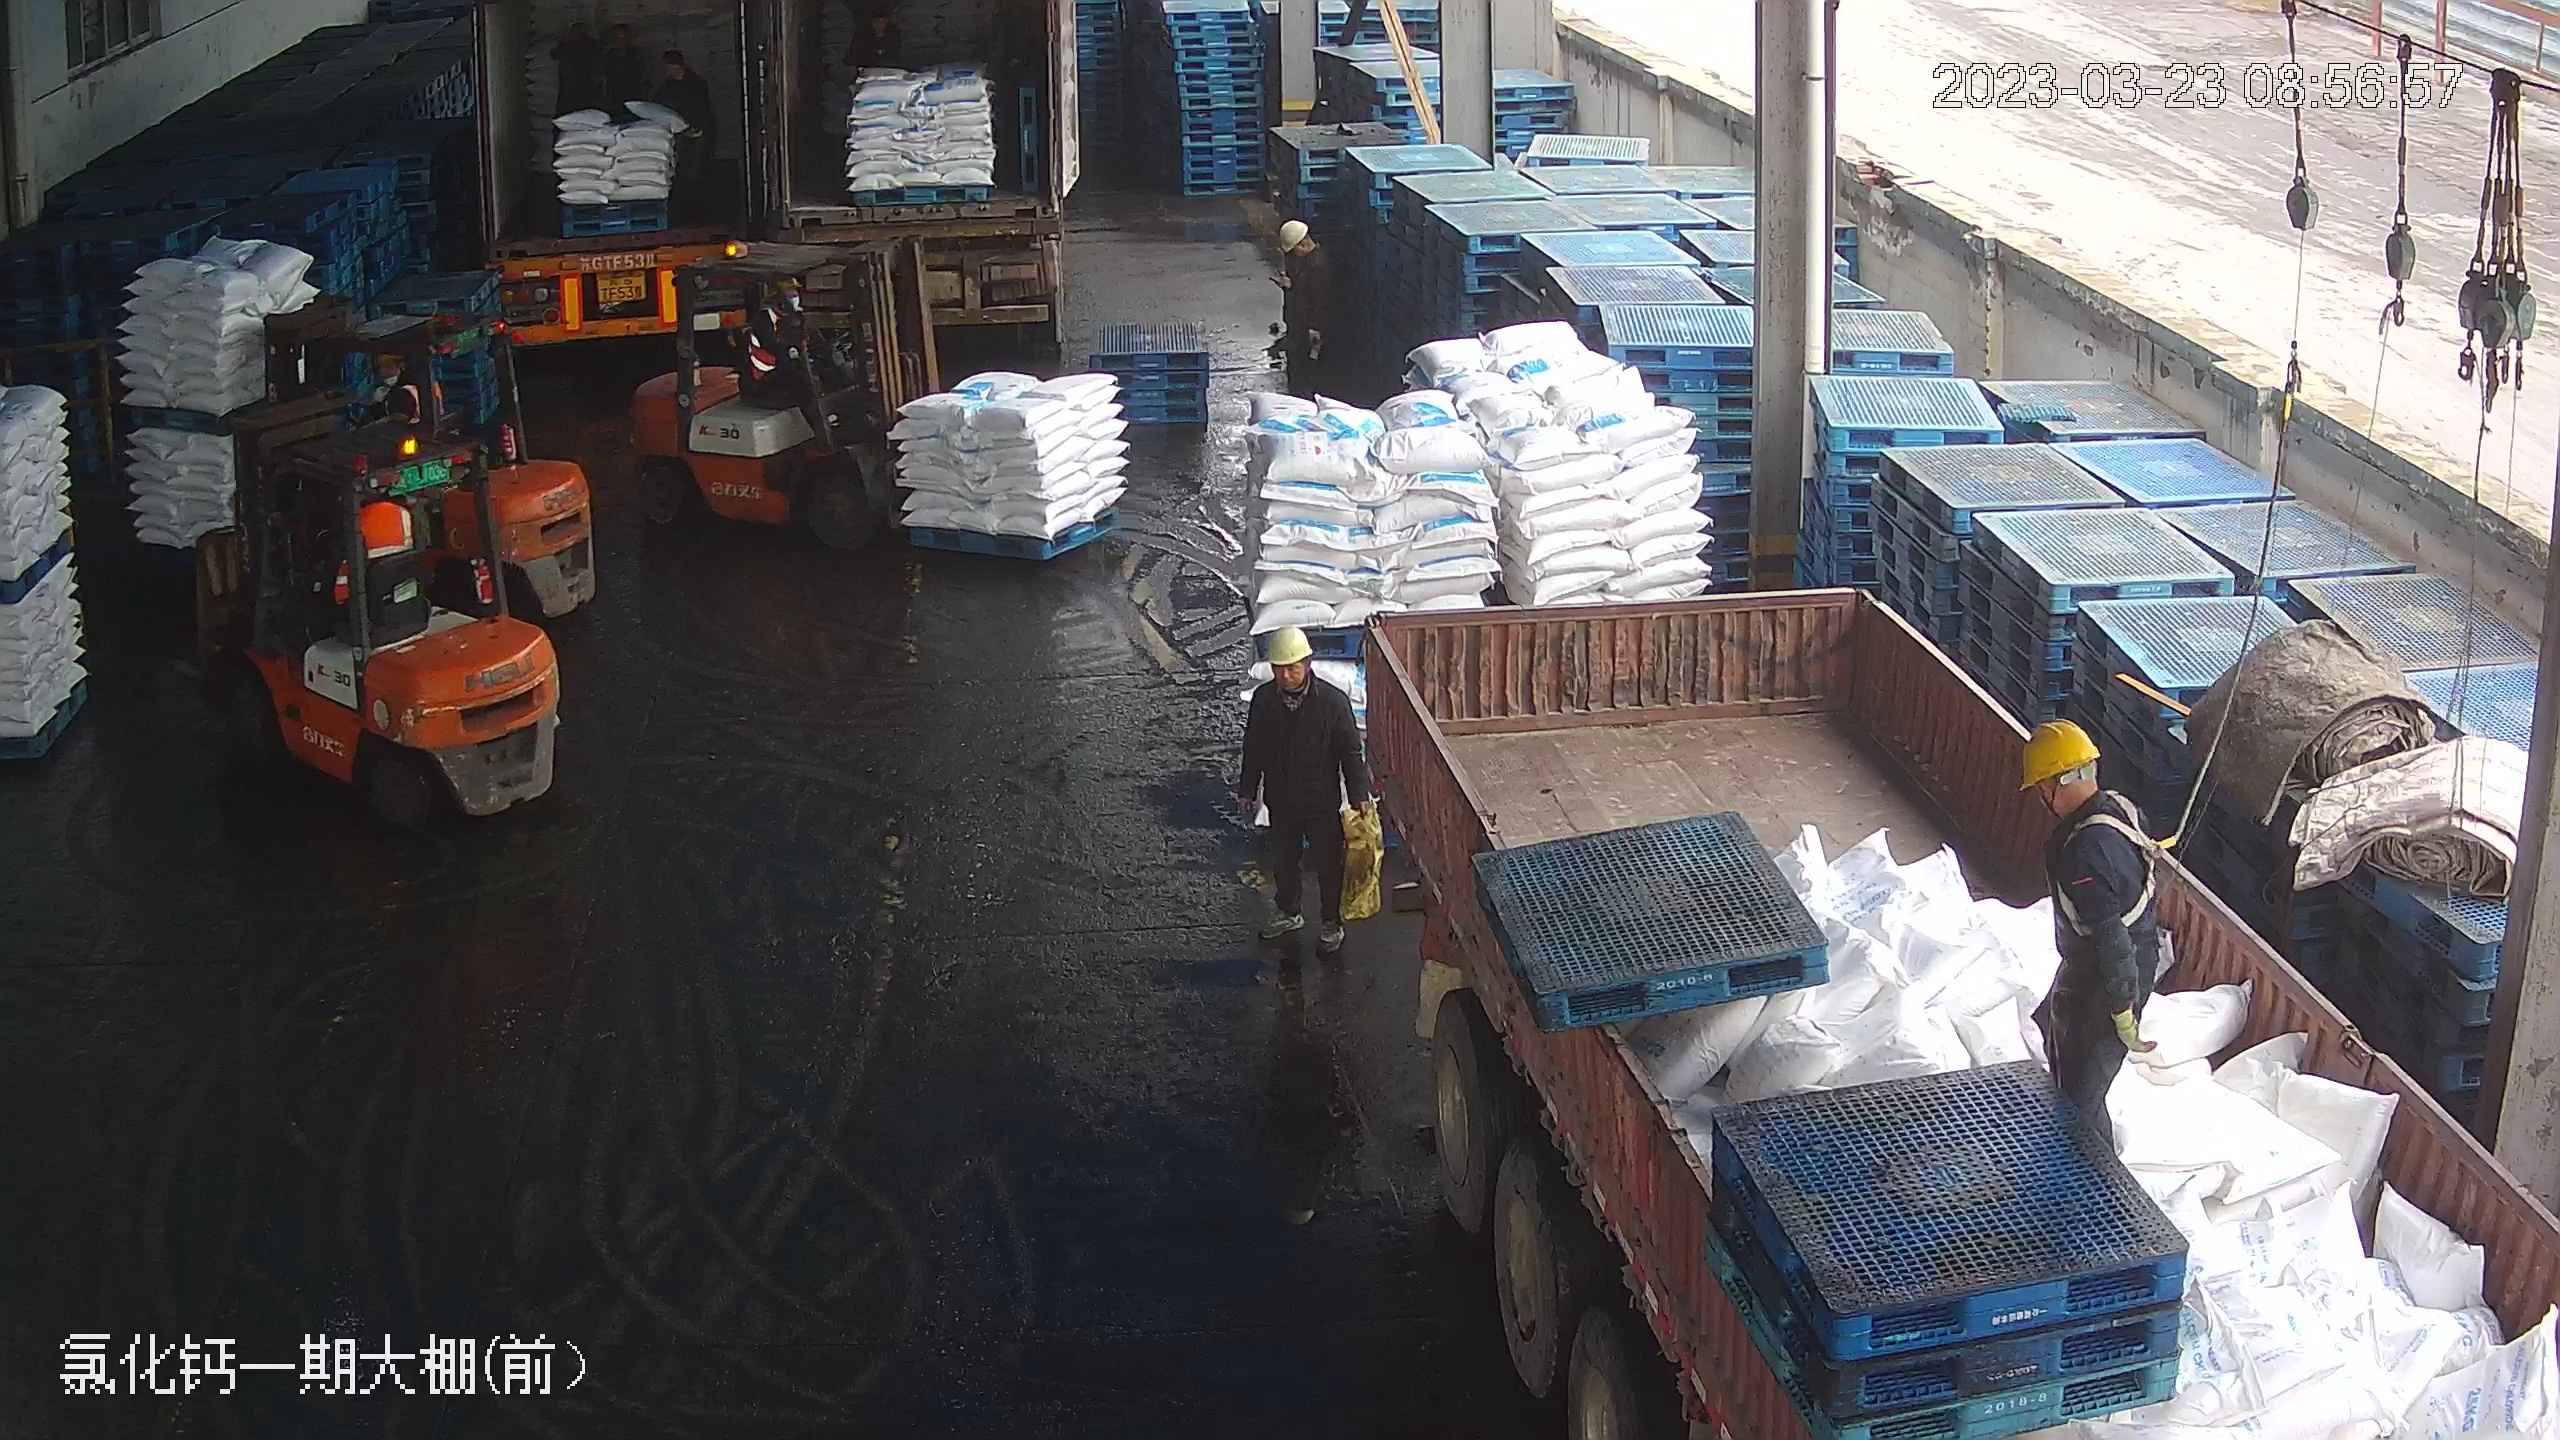belt: (2050, 799, 2178, 930)
head: (2013, 717, 2152, 880), (1247, 624, 1354, 733), (1274, 215, 1337, 302)
helmet: (2015, 718, 2102, 787), (1261, 624, 1312, 665), (1278, 216, 1310, 255)
people: (2023, 718, 2169, 1155), (1237, 623, 1367, 950), (1274, 211, 1349, 399)
truck: (1253, 322, 2541, 1430), (457, 21, 770, 345)
